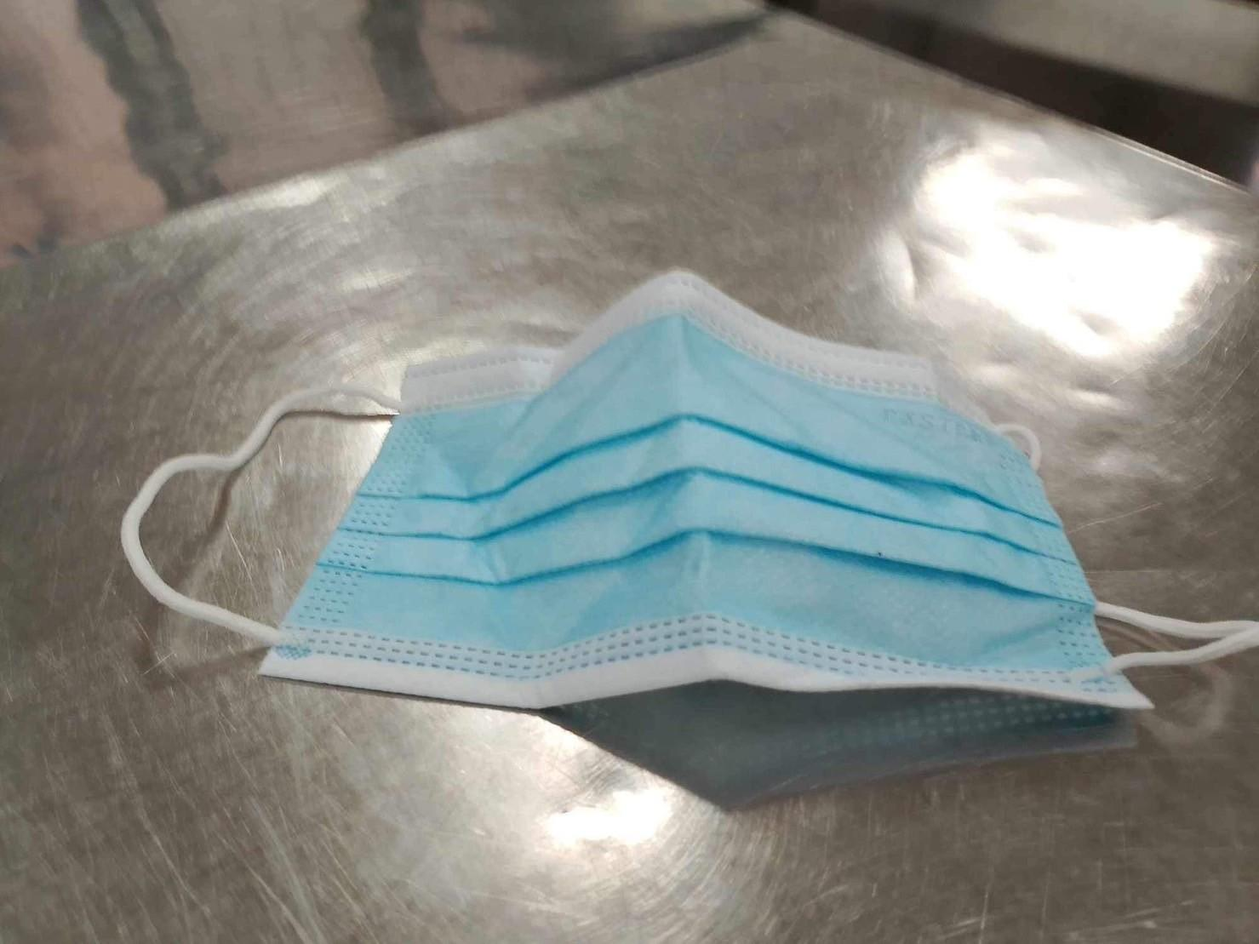Pathological: (253, 267, 1153, 808)
Sharps: (118, 344, 563, 655)
